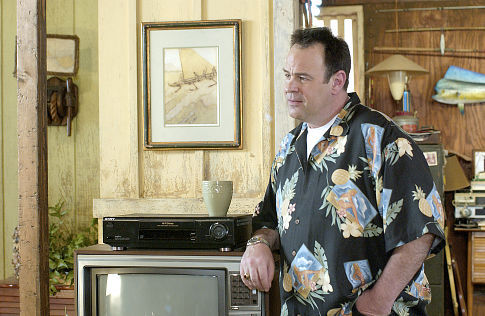46: (275, 32, 338, 130)
Male: (274, 37, 338, 122)
Ring: (243, 271, 252, 280)
Shirt: (249, 91, 450, 316)
Vest: (303, 112, 346, 170)
Watch: (244, 236, 274, 249)
